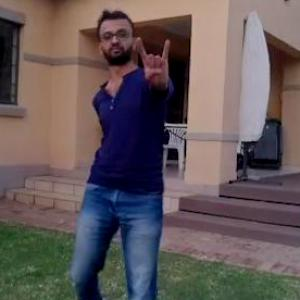takeoff-hand: (130, 32, 180, 92)
